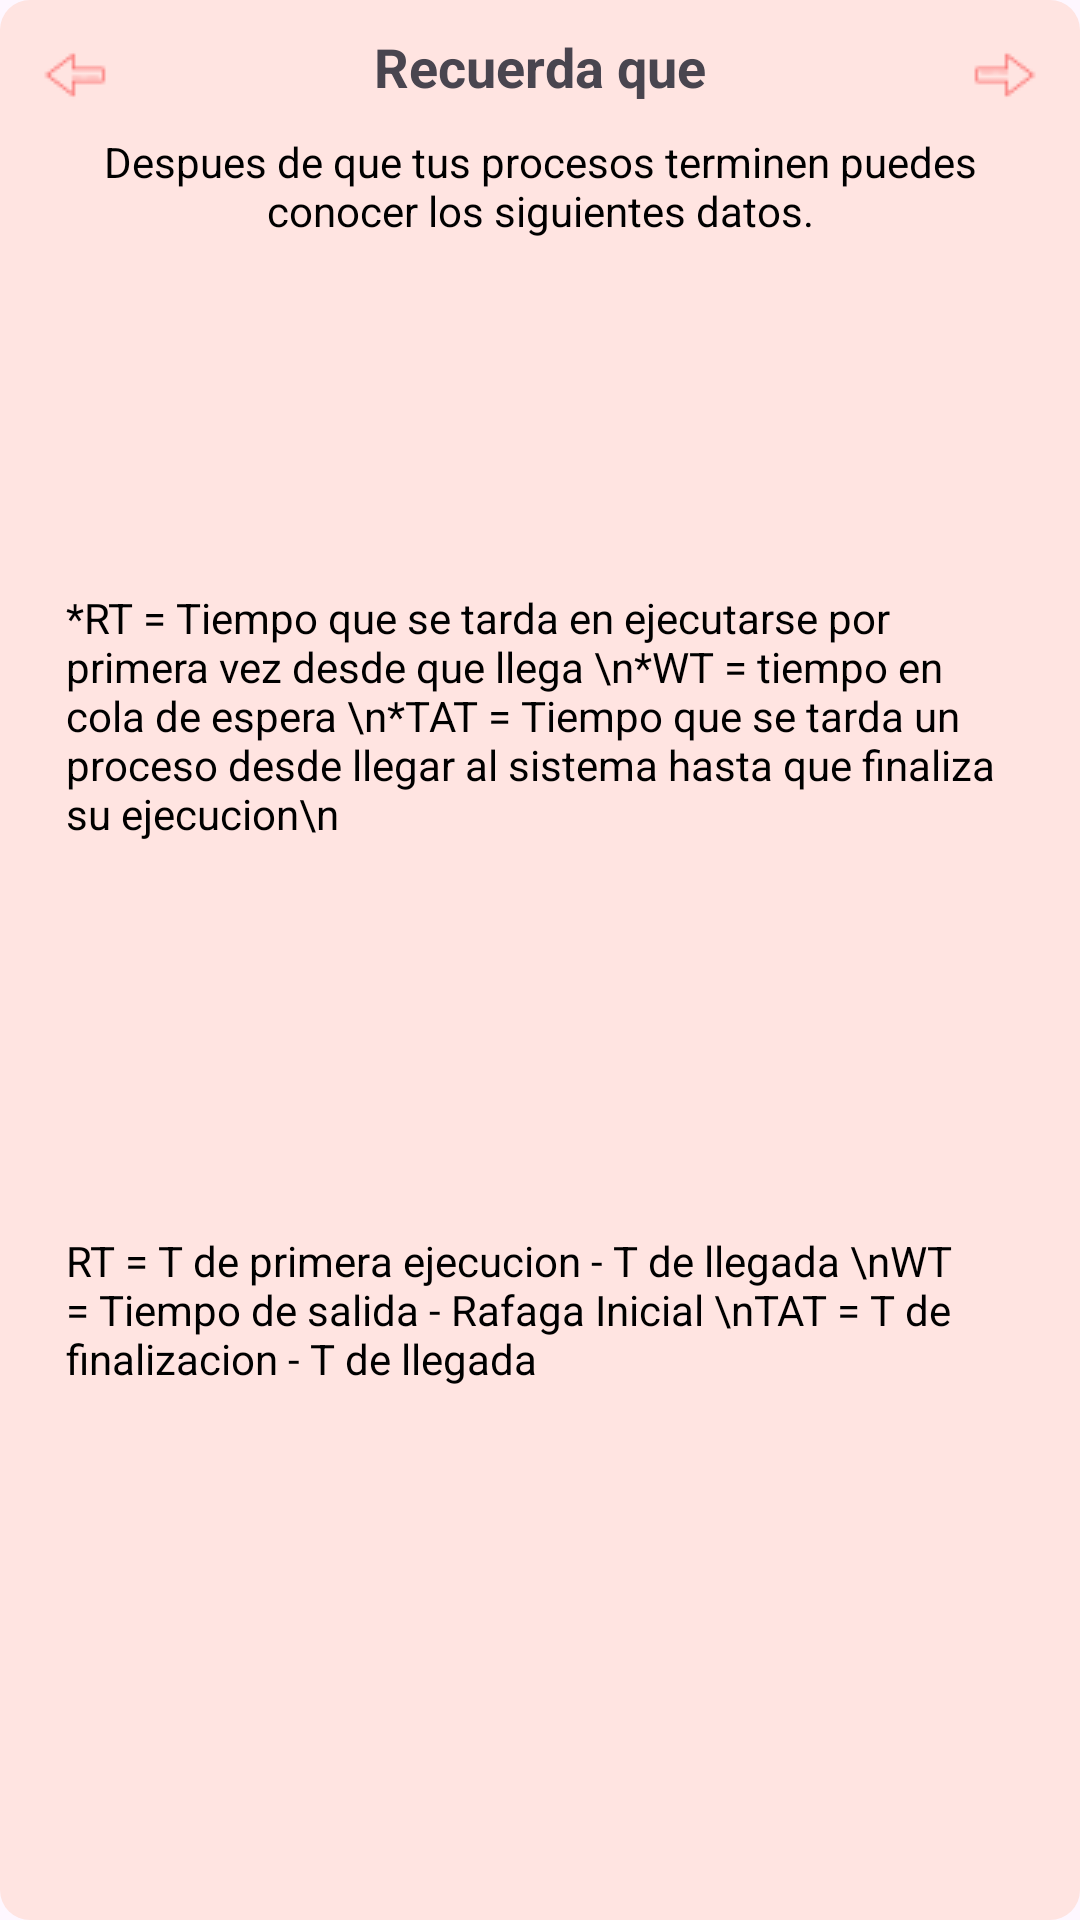

Icon bounding boxes for this 1080px x 1920px phone screenshot, format box(x1, y1, x2, y2):
flecha adelante: box(974, 53, 1035, 97)
flecha atras: box(45, 53, 106, 97)
